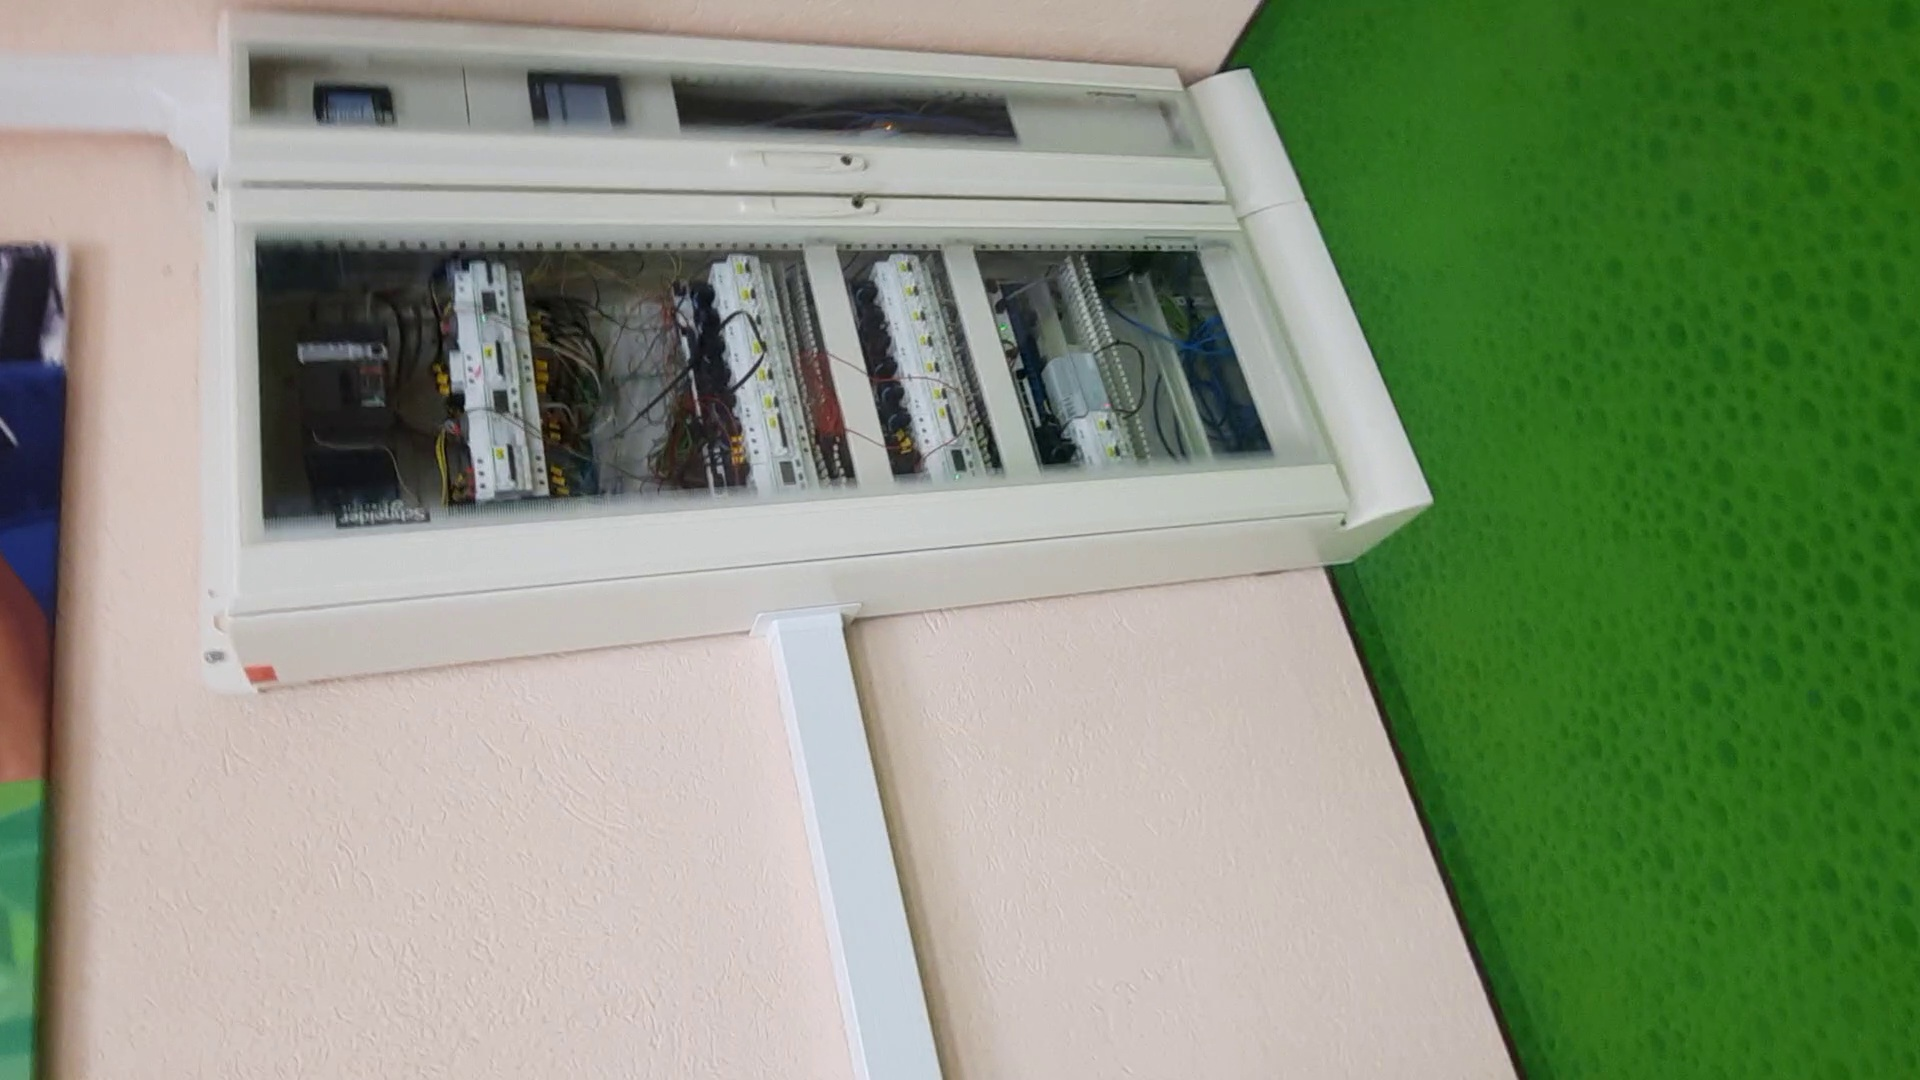stand1: (218, 1, 1447, 694)
